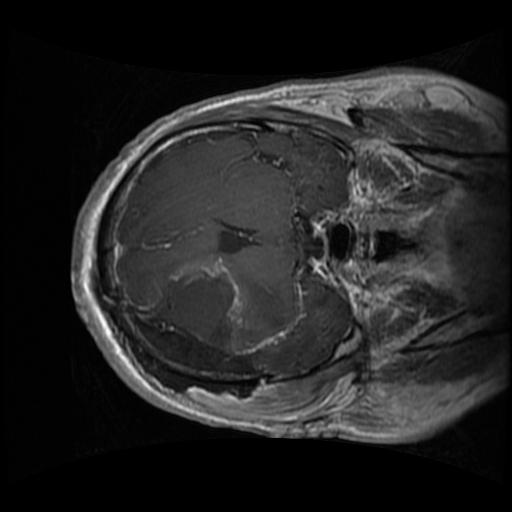glioma: (127, 259, 286, 367)
